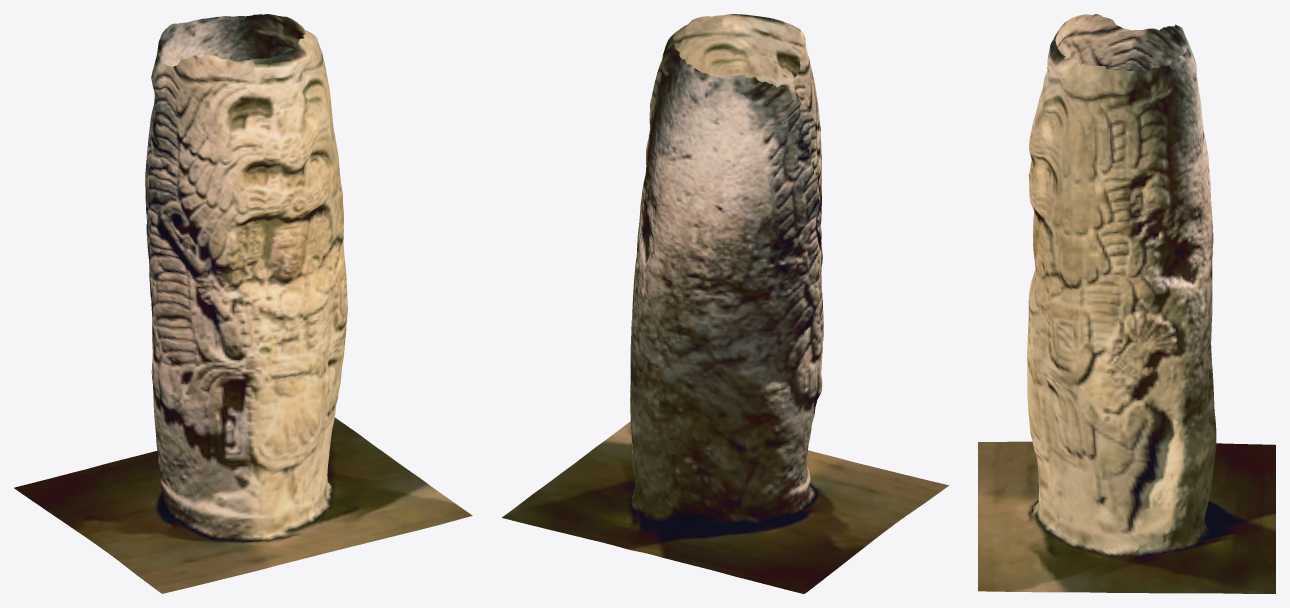
Rendered from dzib.glb.
3 renders of one model, left to right at view 1: azimuth 30°, elevation 25°; view 2: azimuth 150°, elevation 25°; view 3: azimuth 270°, elevation 25°, orthographic. The views are drawn at different scales.
Parts seen in each view (by area): view 1: Object_2; view 2: Object_2; view 3: Object_2.
Part boxes in pixels (x1,y1,x2,y2): Object_2: (14,14,472,593); Object_2: (502,14,948,593); Object_2: (978,14,1275,593).
Size of the model in its own units: 1.2 by 1.76 by 0.9935.
Materials: 1 (1 with a texture image).
